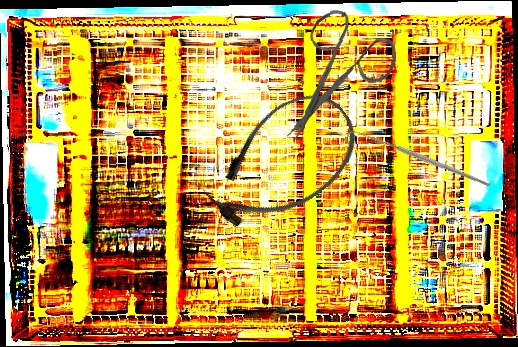Cannula: (189, 76, 375, 248)
Hook Surgical: (345, 83, 492, 237)
Iris Scissors: (277, 6, 402, 145)
